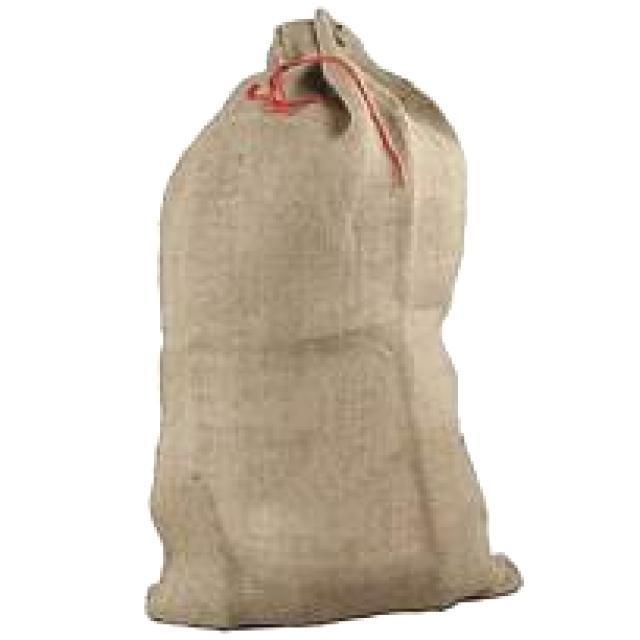gunny_bag: (138, 8, 533, 631)
